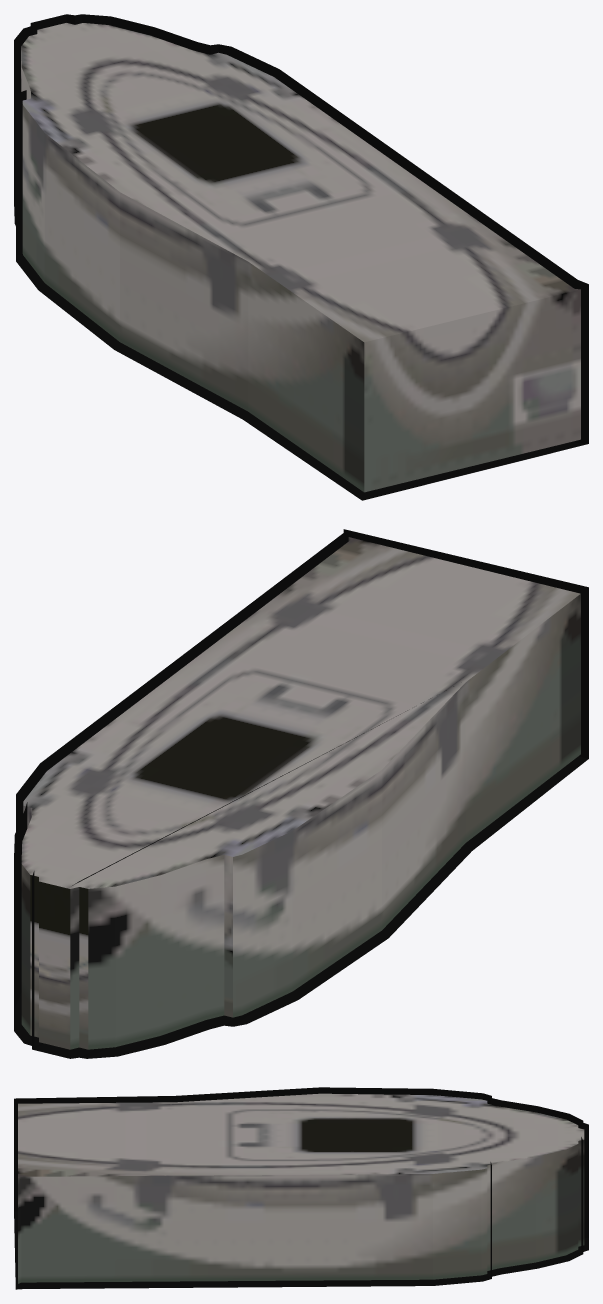
The model's file is Building_AncientCryptosleepPod_Things_Building_Ruins_AncientCryptosleepPod.glb.
3 views of the same model, one above another, from view 1: azimuth 30°, elevation 25°; view 2: azimuth 150°, elevation 25°; view 3: azimuth 270°, elevation 25° (orthographic). The views are drawn at different scales.
Visible parts, largest first — view 1: Body, Outline; view 2: Body, Outline; view 3: Body, Outline.
Part boxes in pixels (x1,y1,x2,y2): Body: (21, 23, 580, 492); Outline: (14, 14, 588, 500); Body: (21, 537, 580, 1049); Outline: (14, 529, 588, 1058); Body: (18, 1093, 584, 1283); Outline: (14, 1087, 588, 1289).
Size of the model in its own units: 0.4843 by 0.295 by 1.32.
2 materials, 1 textured.
